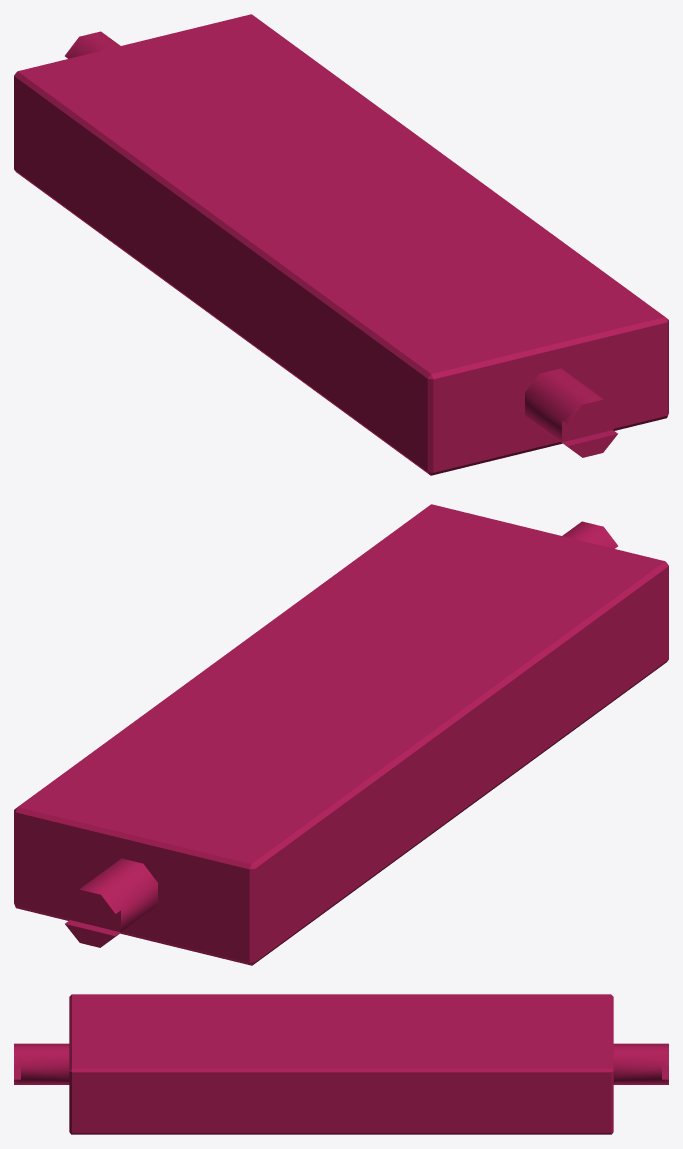
The model's file is Part_Car_Base_6X2_simple.FBX.
3 renders of one model, top to bottom at view 1: azimuth 30°, elevation 25°; view 2: azimuth 150°, elevation 25°; view 3: azimuth 270°, elevation 25°, orthographic. The views are drawn at different scales.
Visible parts, largest first — view 1: Part_Car_Base_6X2_simple; view 2: Part_Car_Base_6X2_simple; view 3: Part_Car_Base_6X2_simple.
Boxes of the visible parts, x1,y1,x2,y2 form: Part_Car_Base_6X2_simple: (14,14,668,475); Part_Car_Base_6X2_simple: (14,504,668,965); Part_Car_Base_6X2_simple: (14,994,668,1134).
Size of the model in its own units: 200 by 722 by 80.
